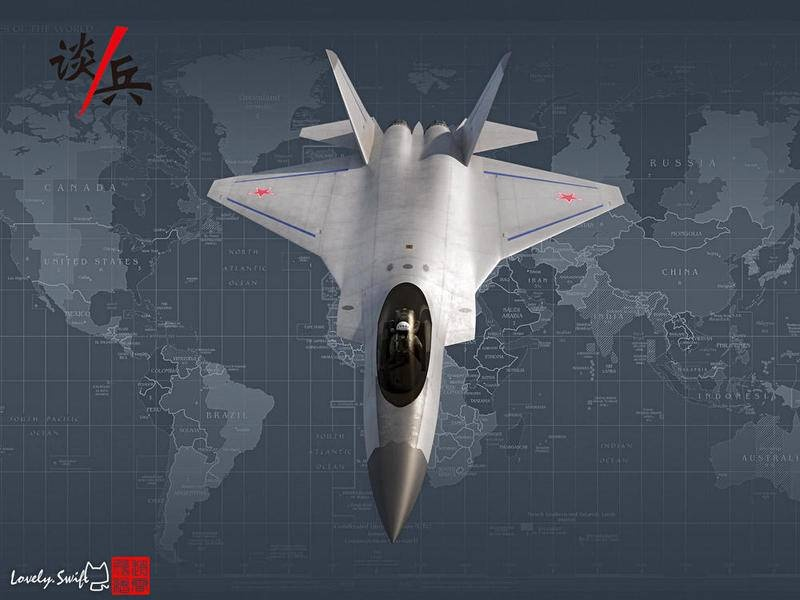airplane: (182, 47, 628, 544)
